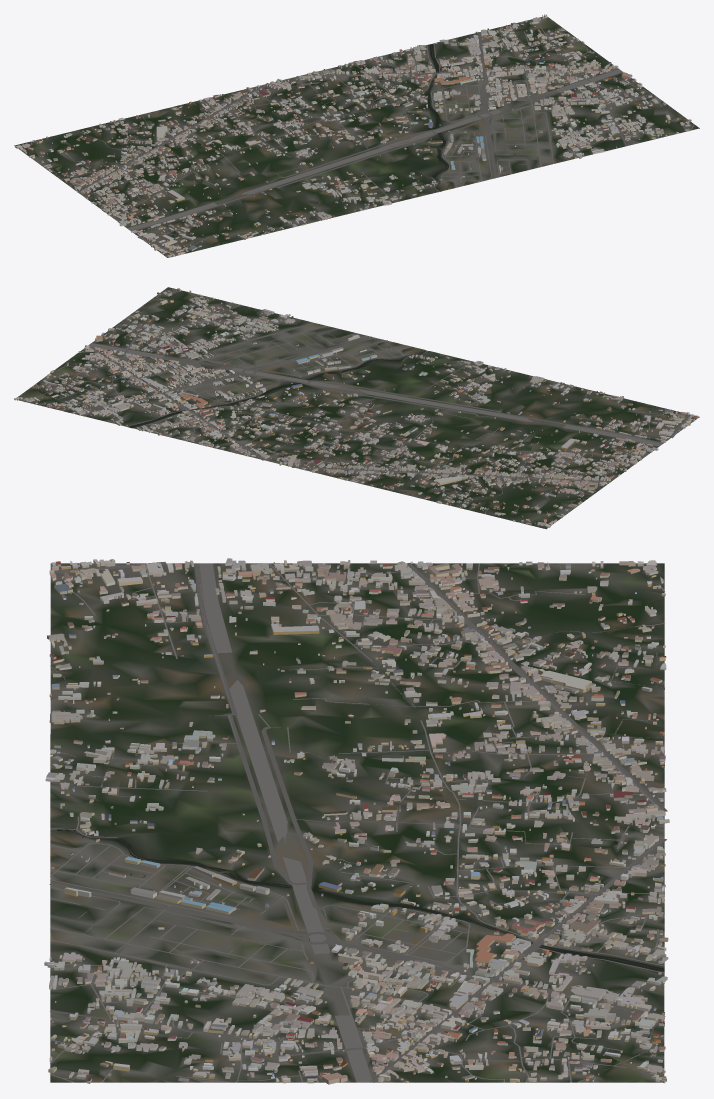
3 renders of one model, top to bottom at view 1: azimuth 30°, elevation 25°; view 2: azimuth 150°, elevation 25°; view 3: azimuth 270°, elevation 25°, orthographic. The views are drawn at different scales.
Visible parts, largest first — view 1: ground, buildings, roads, water; view 2: ground, buildings, roads, water; view 3: ground, buildings, roads, water.
Boxes of the visible parts, box(x1,y1,x2,y2) form: ground: box(14, 16, 699, 257); buildings: box(15, 14, 691, 257); roads: box(32, 19, 694, 255); water: box(311, 44, 448, 190); ground: box(18, 287, 699, 529); buildings: box(14, 288, 698, 527); roads: box(32, 289, 690, 522); water: box(129, 351, 425, 450); ground: box(50, 563, 664, 1082); buildings: box(44, 558, 669, 1084); roads: box(49, 562, 667, 1082); water: box(57, 829, 663, 971).
Bounding box in the file's own units: 2827 × 18.46 × 1426.
